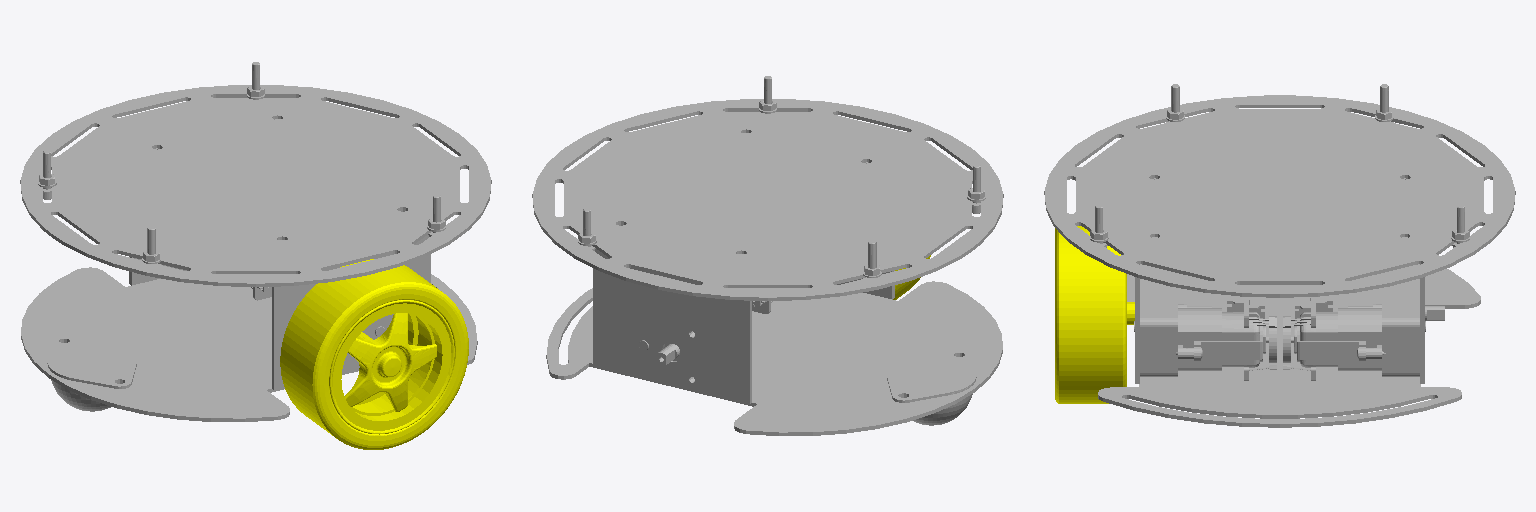
robot.urdf — abot:
<?xml version="1.0" encoding="utf-8"?>
<!-- This URDF was automatically created by SolidWorks to URDF Exporter! Originally created by [author] ([email redacted]) 
     Commit Version: 1.5.1-0-g916b5db  Build Version: 1.5.7152.31018
     For more information, please see http://wiki.ros.org/sw_urdf_exporter -->
<robot
  name="abot">
  <link
    name="abot_base">
    <inertial>
      <origin
        xyz="-0.020033 -0.0011051 0.056486"
        rpy="0 0 0" />
      <mass
        value="0.54627" />
      <inertia
        ixx="0.00061681"
        ixy="-1.7116E-06"
        ixz="-1.1044E-05"
        iyy="0.00061911"
        iyz="-8.1361E-09"
        izz="0.0011295" />
    </inertial>
    <visual>
      <origin
        xyz="0 0 0"
        rpy="0 0 0" />
      <geometry>
        <mesh
          filename="package://abot/meshes/abot_base.STL" />
      </geometry>
      <material
        name="">
        <color
          rgba="0.75294 0.75294 0.75294 1" />
      </material>
    </visual>
    <collision>
      <origin
        xyz="0 0 0"
        rpy="0 0 0" />
      <geometry>
        <mesh
          filename="package://abot/meshes/abot_base.STL" />
      </geometry>
    </collision>
  </link>
  <link
    name="abot_left_wheel">
    <inertial>
      <origin
        xyz="1.9255E-10 0.00056576 -1.0414E-10"
        rpy="0 0 0" />
      <mass
        value="0.050464" />
      <inertia
        ixx="2.0701E-05"
        ixy="-3.8089E-14"
        ixz="1.3584E-15"
        iyy="3.5827E-05"
        iyz="2.1838E-15"
        izz="2.0701E-05" />
    </inertial>
    <visual>
      <origin
        xyz="0 0 0"
        rpy="0 0 0" />
      <geometry>
        <mesh
          filename="package://abot/meshes/abot_left_wheel.STL" />
      </geometry>
      <material
        name="">
        <color
          rgba="1 1 0 1" />
      </material>
    </visual>
    <collision>
      <origin
        xyz="0 0 0"
        rpy="0 0 0" />
      <geometry>
        <mesh
          filename="package://abot/meshes/abot_left_wheel.STL" />
      </geometry>
    </collision>
  </link>
  <joint
    name="left_wheel_to_base"
    type="continuous">
    <origin
      xyz="0 0.068 0.0145"
      rpy="0 0 0" />
    <parent
      link="abot_base" />
    <child
      link="abot_left_wheel" />
    <axis
      xyz="0 1 0" />
  </joint>
  <link
    name="abot_right_wheel">
    <inertial>
      <origin
        xyz="1.92547730993481E-10 -0.000565763151060841 1.04144037144094E-10"
        rpy="0 0 0" />
      <mass
        value="0.0504636002883635" />
      <inertia
        ixx="2.07010058324571E-05"
        ixy="3.80886689750078E-14"
        ixz="-1.35840677169895E-15"
        iyy="3.58274339853362E-05"
        iyz="2.18379797414398E-15"
        izz="2.07008063139734E-05" />
    </inertial>
    <visual>
      <origin
        xyz="0 0 0"
        rpy="0 0 0" />
      <geometry>
        <mesh
          filename="package://abot/meshes/abot_right_wheel.STL" />
      </geometry>
      <material
        name="">
        <color
          rgba="1 1 0 1" />
      </material>
    </visual>
    <collision>
      <origin
        xyz="0 0 0"
        rpy="0 0 0" />
      <geometry>
        <mesh
          filename="package://abot/meshes/abot_right_wheel.STL" />
      </geometry>
    </collision>
  </link>
  <joint
    name="right_wheel_to_base"
    type="continuous">
    <origin
      xyz="0 -0.068 0.0145"
      rpy="0 0 0" />
    <parent
      link="abot_base" />
    <child
      link="abot_right_wheel" />
    <axis
      xyz="0 1 0" />
  </joint>
  <link
    name="abot_caster_wheel">
    <inertial>
      <origin
        xyz="0 1.60734892388089E-19 0"
        rpy="0 0 0" />
      <mass
        value="0.0112066893138855" />
      <inertia
        ixx="2.19651110552156E-07"
        ixy="-1.55326461335414E-55"
        ixz="-1.97759730356012E-56"
        iyy="2.19651110552156E-07"
        iyz="-2.2674021764336E-40"
        izz="2.19651110552156E-07" />
    </inertial>
    <visual>
      <origin
        xyz="0 0 0"
        rpy="0 0 0" />
      <geometry>
        <mesh
          filename="package://abot/meshes/abot_caster_wheel.STL" />
      </geometry>
      <material
        name="">
        <color
          rgba="0.529411764705882 0.549019607843137 0.549019607843137 1" />
      </material>
    </visual>
    <collision>
      <origin
        xyz="0 0 0"
        rpy="0 0 0" />
      <geometry>
        <mesh
          filename="package://abot/meshes/abot_caster_wheel.STL" />
      </geometry>
    </collision>
  </link>
  <joint
    name="caster_wheel_to_base"
    type="fixed">
    <origin
      xyz="-0.078 0 -0.011"
      rpy="0 0 0" />
    <parent
      link="abot_base" />
    <child
      link="abot_caster_wheel" />
    <axis
      xyz="0 1 0" />
  </joint>
  <link
    name="abot_lidar">
    <inertial>
      <origin
        xyz="0 0 0"
        rpy="0 0 0" />
      <mass
        value="0" />
      <inertia
        ixx="0"
        ixy="0"
        ixz="0"
        iyy="0"
        iyz="0"
        izz="0" />
    </inertial>
    <visual>
      <origin
        xyz="0 0 0"
        rpy="0 0 0" />
      <geometry>
        <mesh
          filename="package://abot/meshes/abot_lidar.STL" />
      </geometry>
      <material
        name="">
        <color
          rgba="1 1 1 1" />
      </material>
    </visual>
    <collision>
      <origin
        xyz="0 0 0"
        rpy="0 0 0" />
      <geometry>
        <mesh
          filename="package://abot/meshes/abot_lidar.STL" />
      </geometry>
    </collision>
  </link>
  <joint
    name="lidar_to_base"
    type="fixed">
    <origin
      xyz="-0.0100000000000004 0 0.1419"
      rpy="0 0 3.14159265358978" />
    <parent
      link="abot_base" />
    <child
      link="abot_lidar" />
    <axis
      xyz="0 0 0" />
  </joint>
</robot>

--- What the picture shows (computed from the rendered views, not written in the file) ---
The picture shows the robot from 3 angles, left to right: view 1: azimuth 30°, elevation 25°; view 2: azimuth 150°, elevation 25°; view 3: azimuth 270°, elevation 25°; orthographic projection.
Robot: abot — 5 links, 4 joints (2 continuous, 2 fixed); root link abot_base; default pose: all joints at 0.
Visible links, largest first — view 1: abot_base, abot_right_wheel; view 2: abot_base; view 3: abot_base, abot_right_wheel.
Boxes of the visible links, x1,y1,x2,y2 form: abot_base: [20, 62, 491, 421]; abot_right_wheel: [280, 259, 468, 449]; abot_base: [532, 76, 1003, 435]; abot_base: [1044, 84, 1515, 427]; abot_right_wheel: [1055, 226, 1134, 403].
Size in the robot's own frame: 0.1707 by 0.1694 by 0.0879 metres.
Meshes: 5 distinct files referenced, 2 mesh visuals loaded (2 binary STL); not drawn: 3 (reference not matched to a file when rendering).